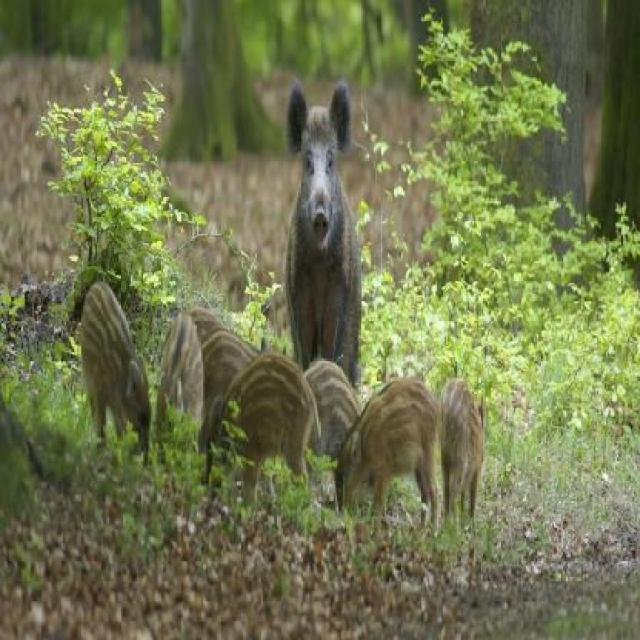wildboar: (283, 75, 362, 407), (333, 371, 441, 538), (205, 345, 323, 490), (79, 279, 155, 464), (281, 345, 365, 487), (195, 324, 276, 468), (152, 295, 206, 460), (435, 376, 488, 535), (178, 297, 232, 443)
